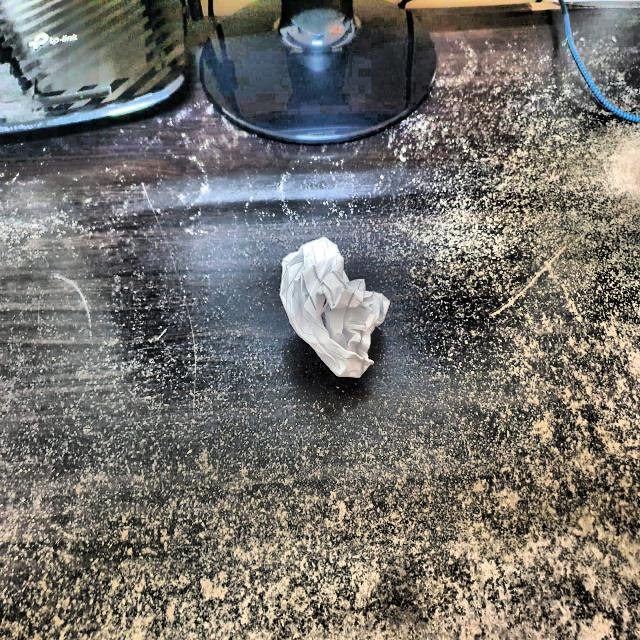Paper: (278, 235, 398, 382)
